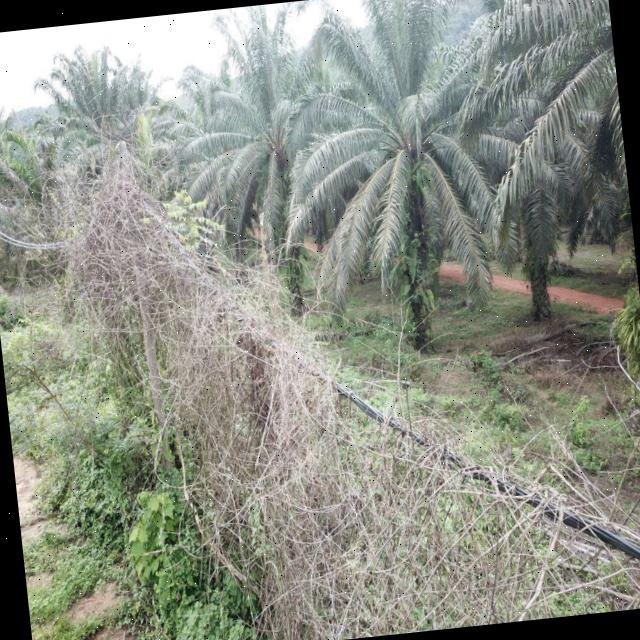critical vegetation: (49, 85, 594, 640)
